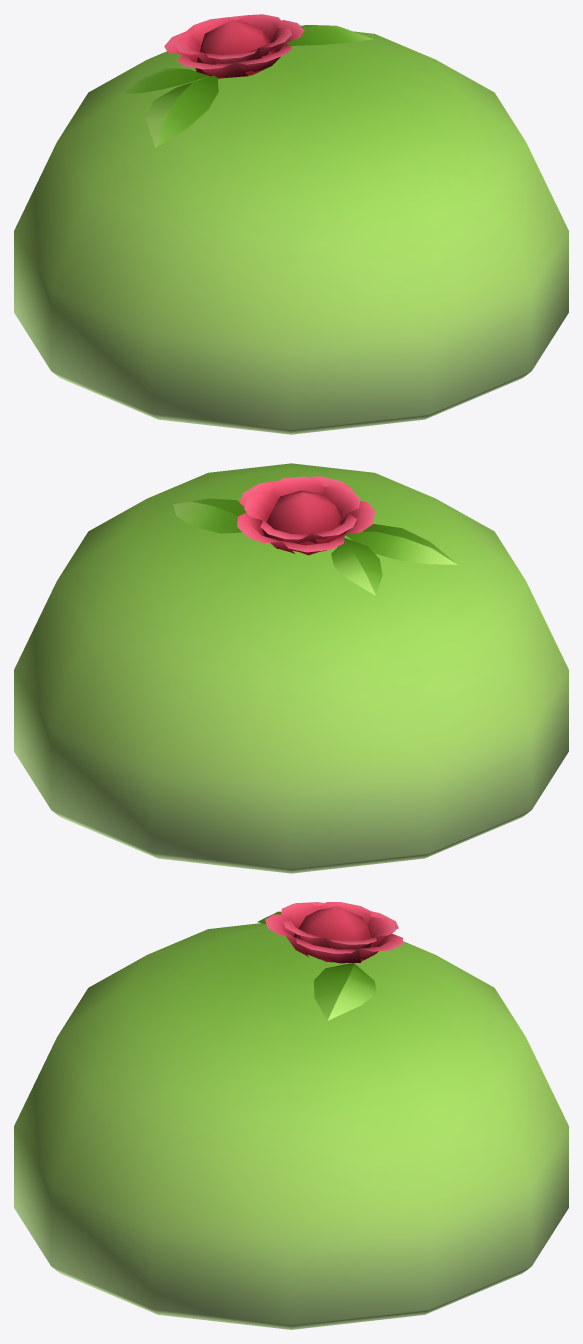
Rendered from m_PrincessCake02.fbx.
3 views of the same model, one above another, from view 1: azimuth 30°, elevation 25°; view 2: azimuth 150°, elevation 25°; view 3: azimuth 270°, elevation 25° (orthographic).
Parts seen in each view (by area): view 1: m_PrincessCake02; view 2: m_PrincessCake02; view 3: m_PrincessCake02.
Boxes of the visible parts, bbox=[...] form: m_PrincessCake02: bbox=[14, 14, 568, 434]; m_PrincessCake02: bbox=[14, 463, 568, 873]; m_PrincessCake02: bbox=[14, 902, 568, 1329].
Bounding box in the file's own units: 28 × 16.33 × 28.
